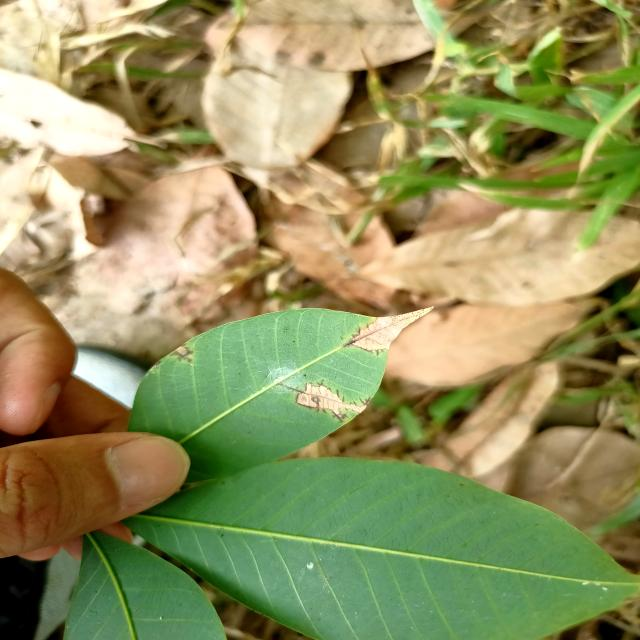Colletotrichum: (312, 396, 320, 403)
Corynespora: (276, 380, 372, 422)
Leaf-Blight: (352, 306, 433, 352), (298, 384, 366, 414)
